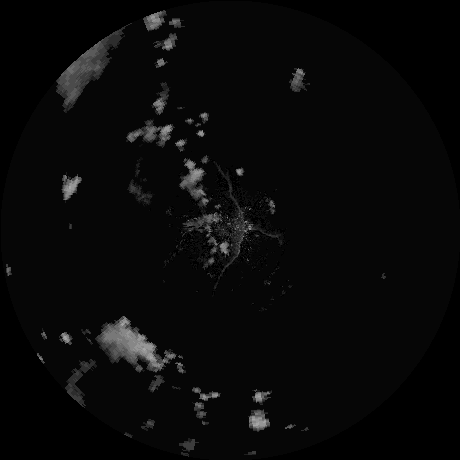frontgust: (219, 171, 247, 278)
